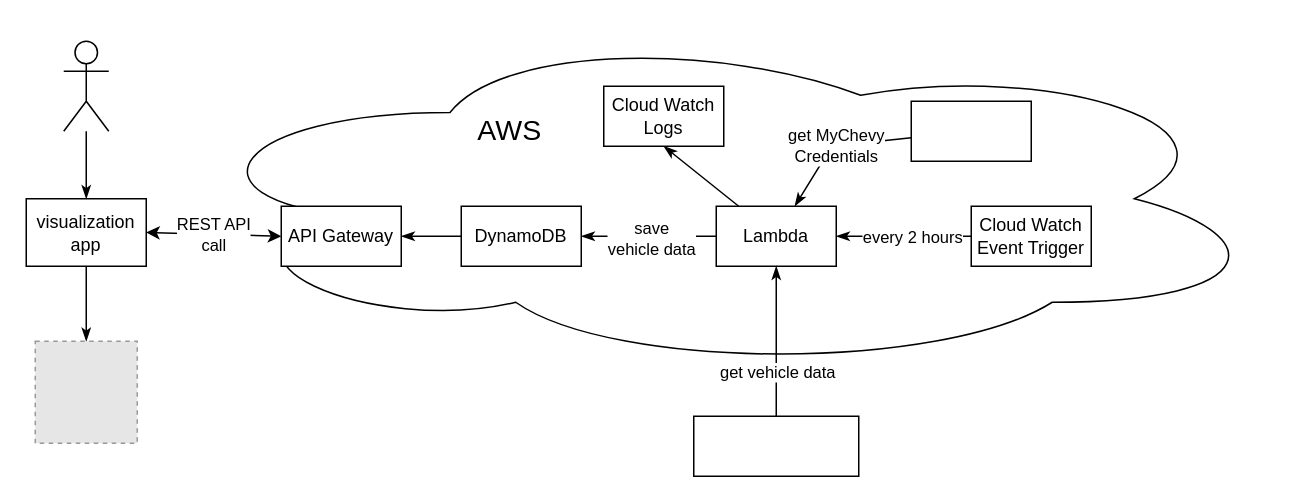
The diagram is 1298 pixels wide and 503 high, and some of its shapes have lost their labels. Grey dashed boxes stand in for pictures. The shapes that lost their labels are listed below. From the top down, each one's box as (x1, y1, x2, y2) in pixels, then its label:
(62, 40, 109, 131): Actor
(910, 100, 1031, 161): Parameter Store
(692, 415, 859, 476): mychevrolet.com
